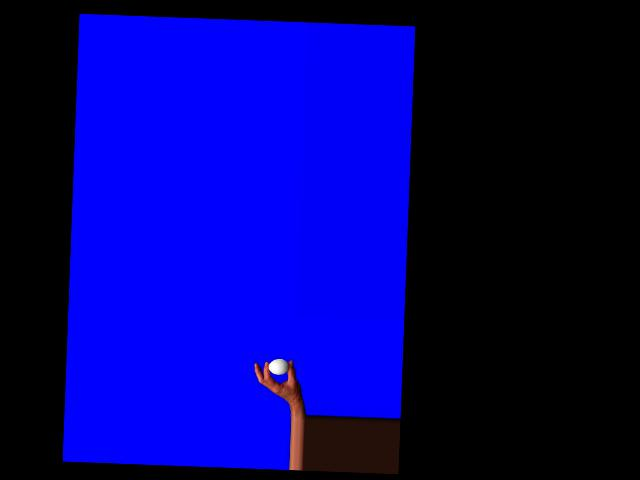egg: (268, 358, 289, 375)
